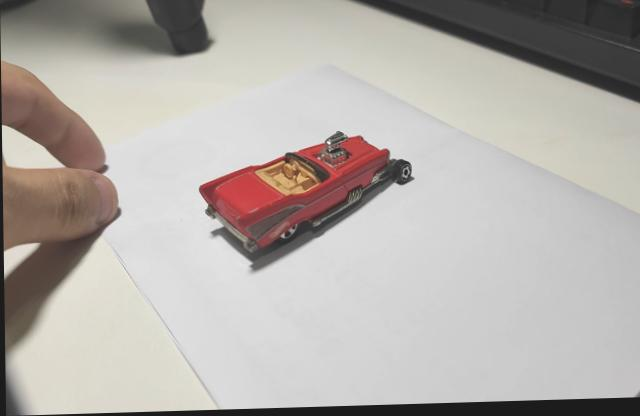03_V8: (197, 135, 412, 275)
